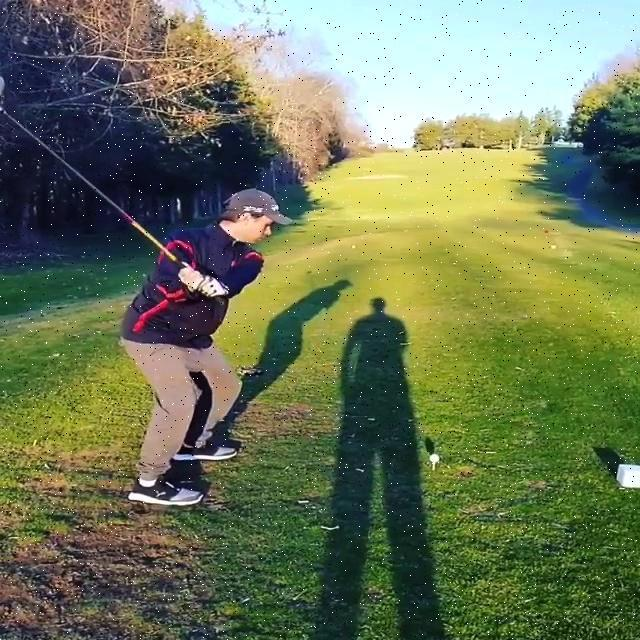golf ball: (429, 453, 442, 464)
